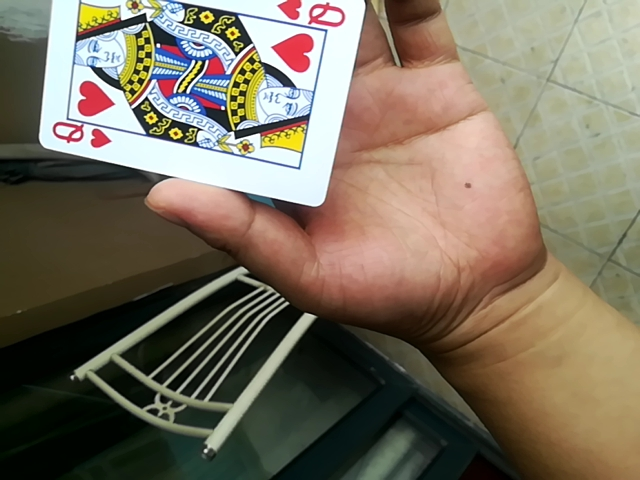hx q: (35, 0, 366, 212)
